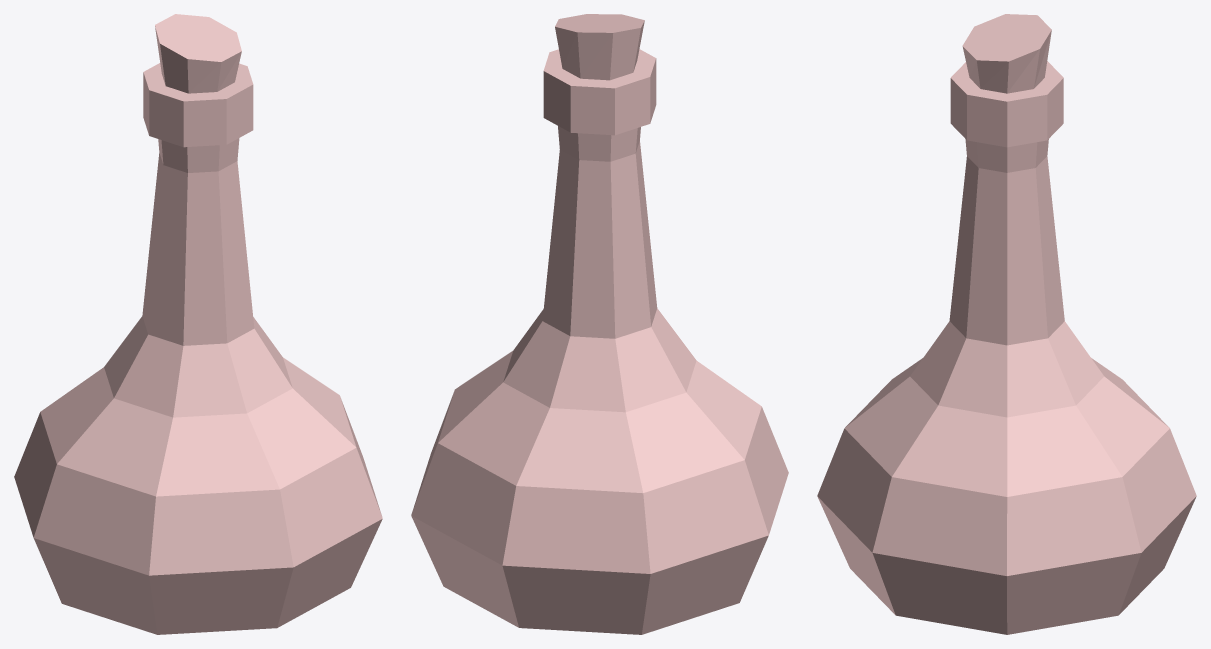
File: SM_Item_Bottle_04.glb
3 renders of one model, left to right at view 1: azimuth 30°, elevation 25°; view 2: azimuth 150°, elevation 25°; view 3: azimuth 270°, elevation 25°, orthographic. The views are drawn at different scales.
Visible parts, largest first — view 1: SM_Item_Bottle_04_00; view 2: SM_Item_Bottle_04_00; view 3: SM_Item_Bottle_04_00.
Part boxes in pixels (box(x1,y1,x2,y2)): SM_Item_Bottle_04_00: box(14, 14, 382, 634); SM_Item_Bottle_04_00: box(411, 14, 788, 634); SM_Item_Bottle_04_00: box(817, 14, 1196, 634).
Size of the model in its own units: 0.1664 by 0.261 by 0.1664.
Materials: 1 (1 with a texture image).
